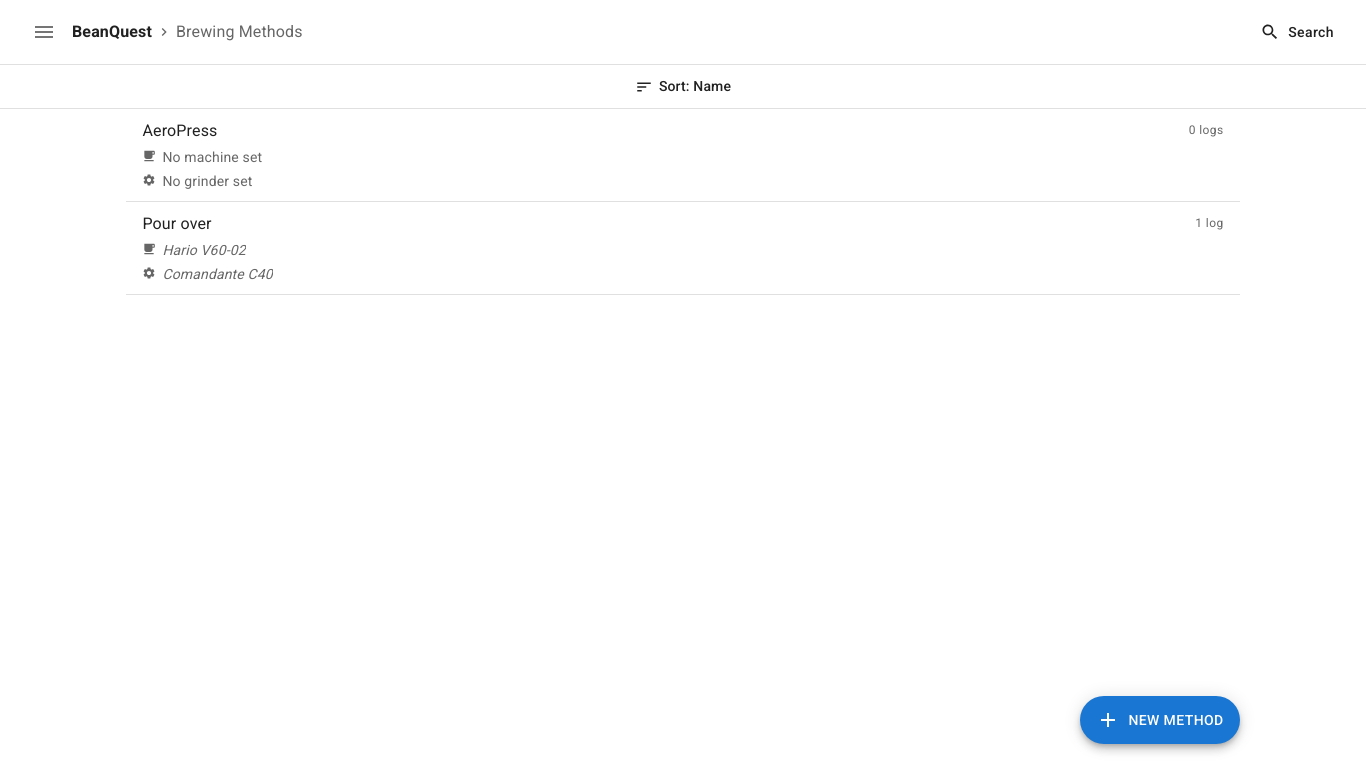
Scenario: BrewingMethodsPage › creates a method via the form and shows it in the list
Expected: the text "Pour over" is shown, [142,212,212,236]
Click the button with aria-label "New brewing method" at (1160, 720), box [1080,696,1240,744]
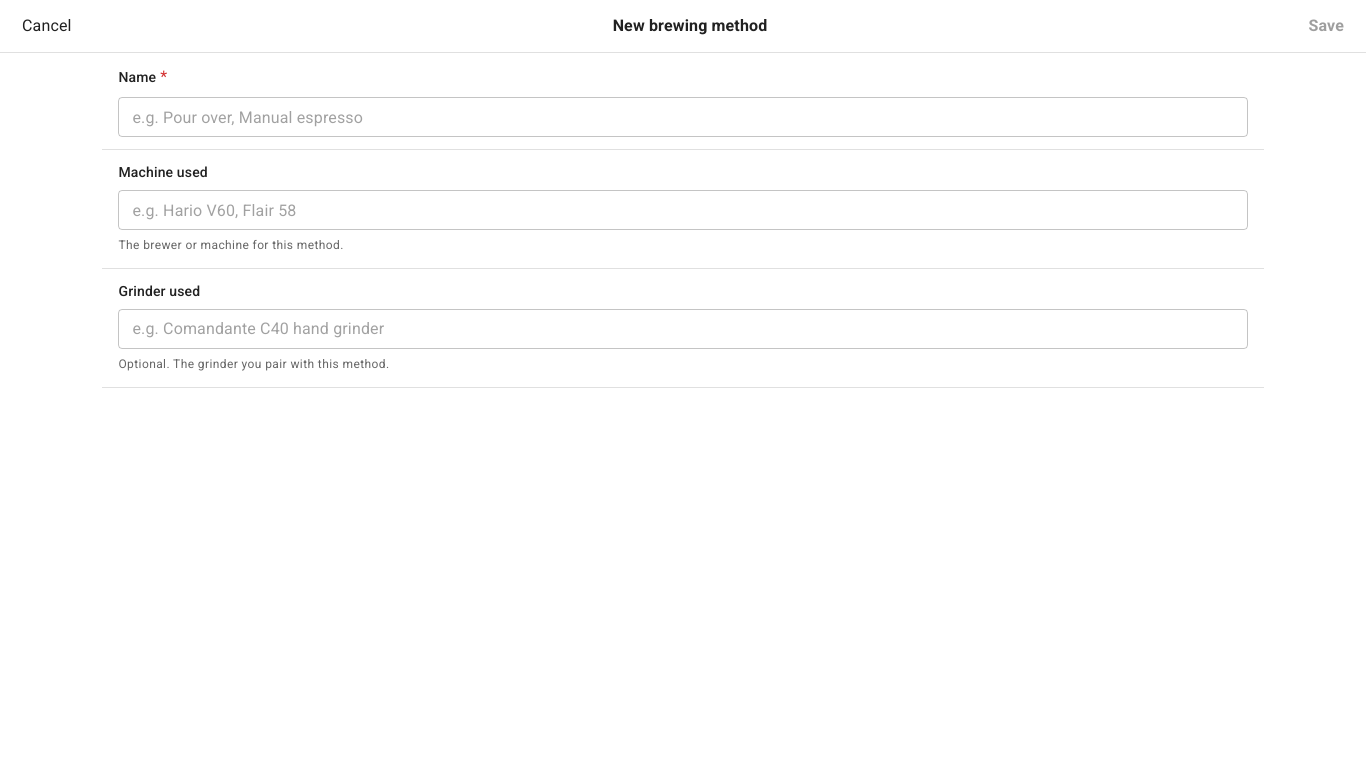
Type "French press" into the field with placeholder "e.g. Pour over, Manual espresso" at (683, 117), box [118,97,1248,137]
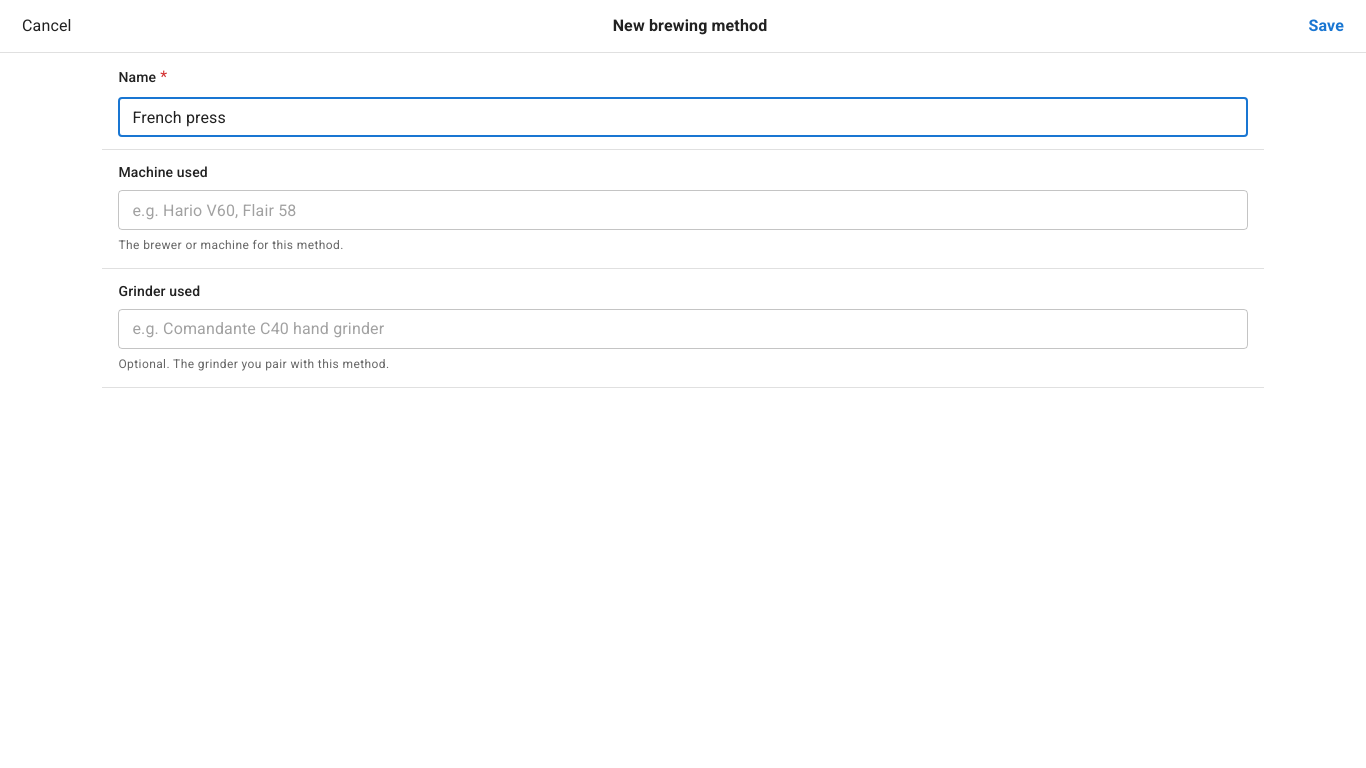
Click the button "Save" at (1326, 26), box [1302,13,1350,39]
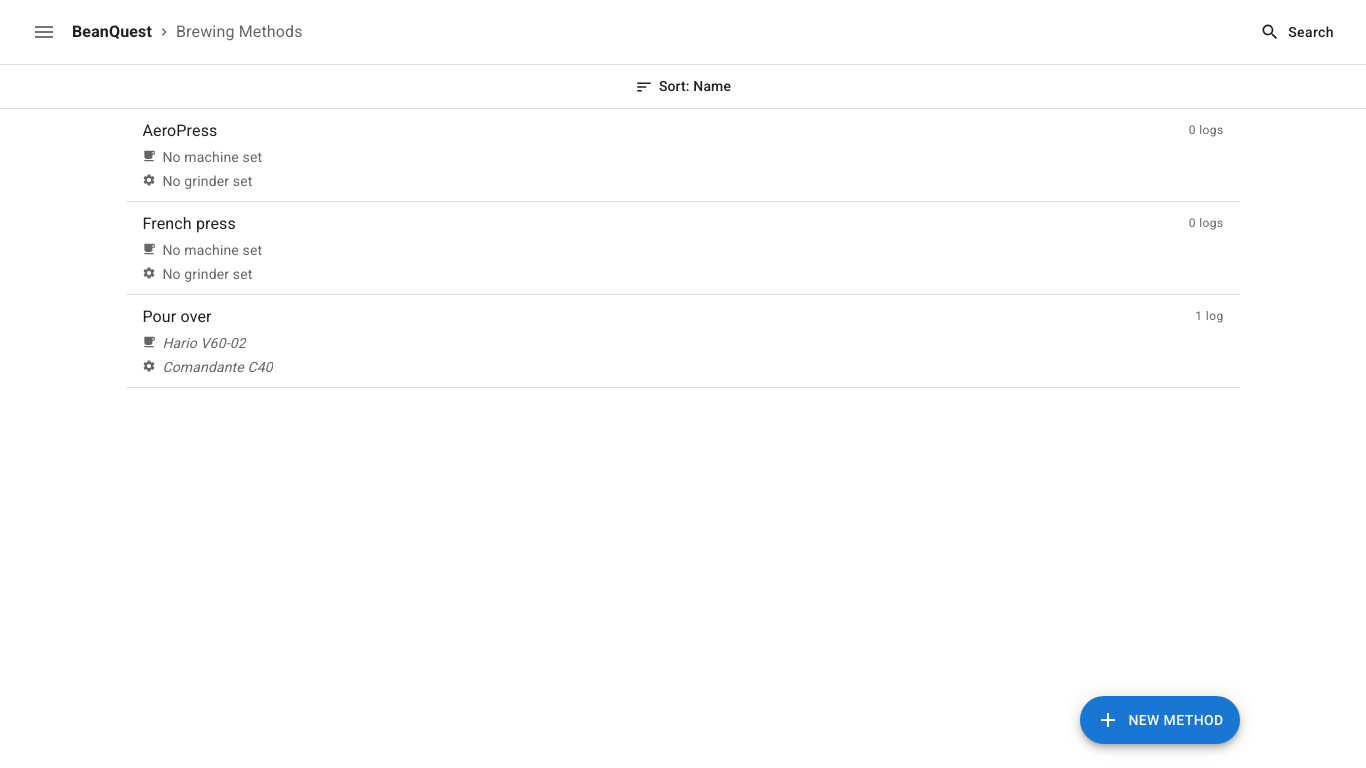
Expected: the text "French press" is shown, [142,212,236,236]
